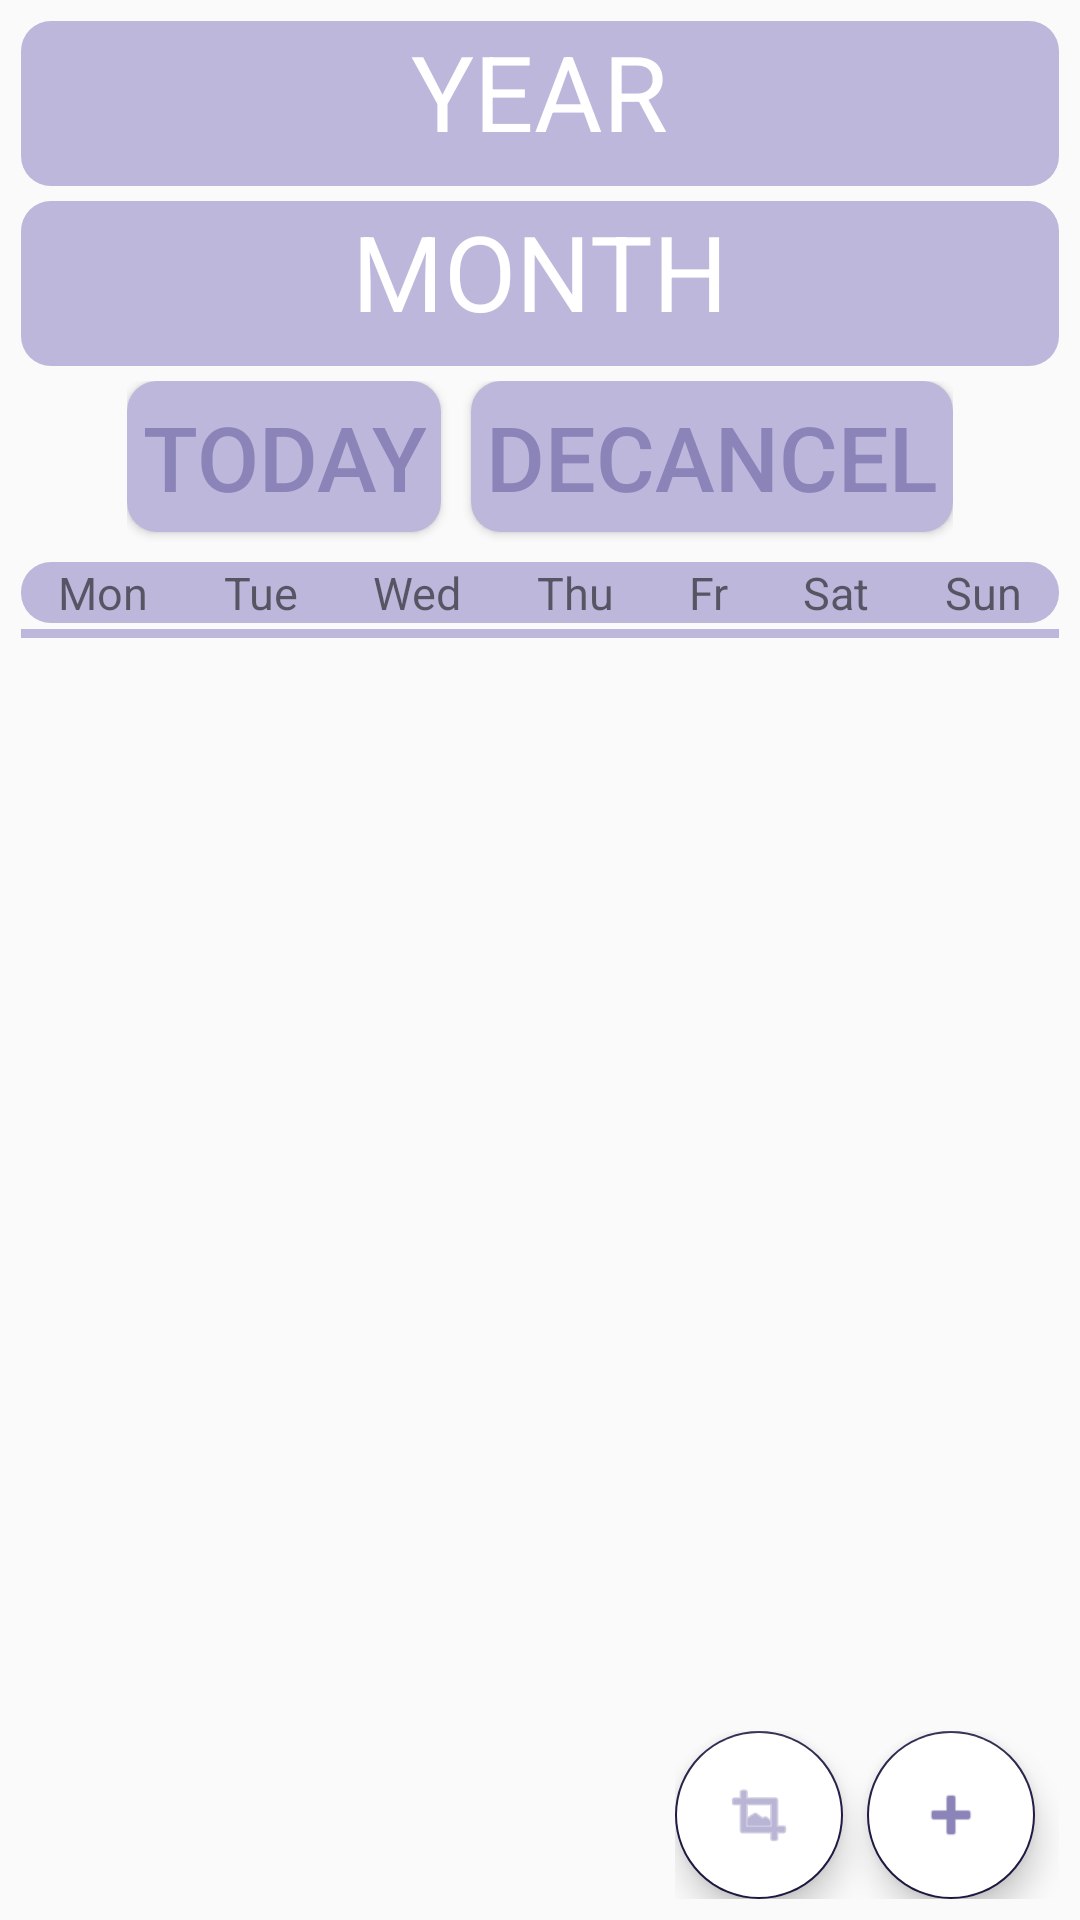

Where to tap for icons on this 1080 x 1920 app screen, as (x,y):
add: (951,1815)
crop: (759,1815)
